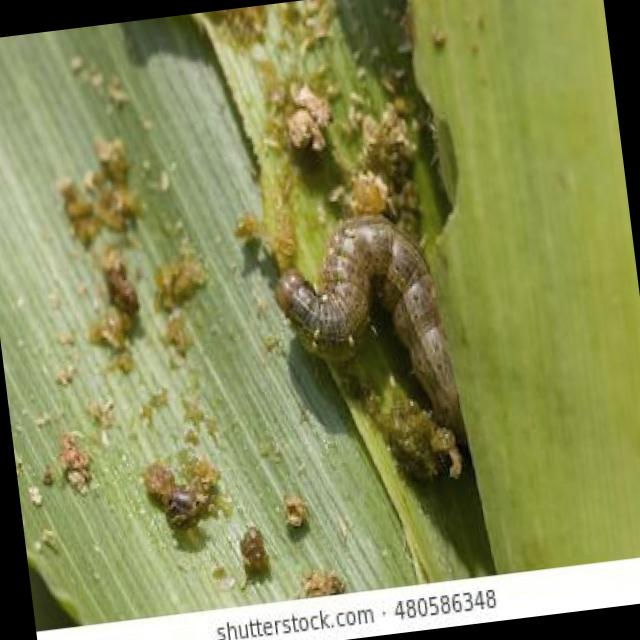pest: (268, 211, 474, 436)
